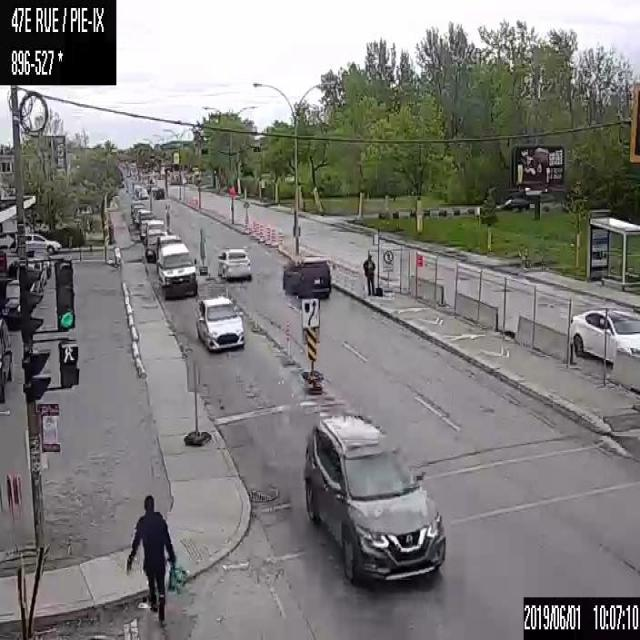construction: (258, 224, 264, 242), (286, 322, 289, 358), (277, 231, 283, 249), (270, 228, 276, 245), (264, 226, 270, 243), (254, 221, 259, 239), (254, 300, 257, 328), (225, 287, 228, 296)
pedestrian: (124, 495, 176, 621), (362, 253, 374, 295)
vehicle: (303, 409, 445, 584), (569, 306, 639, 362), (194, 296, 247, 348), (155, 235, 197, 297), (281, 253, 332, 299), (0, 278, 32, 326), (12, 229, 62, 255), (216, 246, 251, 282), (144, 230, 172, 262), (0, 319, 12, 385), (23, 267, 43, 299), (28, 248, 50, 277), (27, 256, 46, 284), (146, 219, 166, 234), (151, 185, 164, 199)
